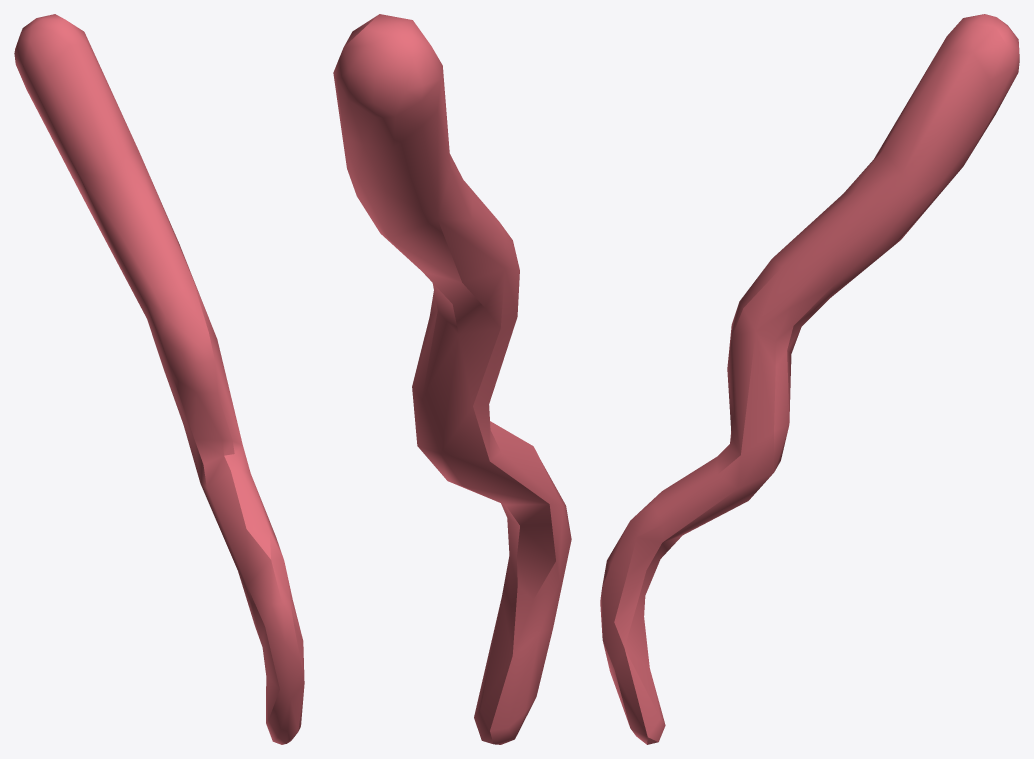
File: fma3860_fj2648.glb
The picture shows the model from 3 angles, left to right: view 1: azimuth 30°, elevation 25°; view 2: azimuth 150°, elevation 25°; view 3: azimuth 270°, elevation 25°; orthographic projection. The views are drawn at different scales.
Parts seen in each view (by area): view 1: FMA3860_FJ2648; view 2: FMA3860_FJ2648; view 3: FMA3860_FJ2648.
Part boxes in pixels (x1,y1,x2,y2): FMA3860_FJ2648: [14, 14, 304, 744]; FMA3860_FJ2648: [333, 14, 571, 744]; FMA3860_FJ2648: [600, 14, 1019, 744].
Bounding box in the file's own units: 0.00273 × 0.013 × 0.00722.
